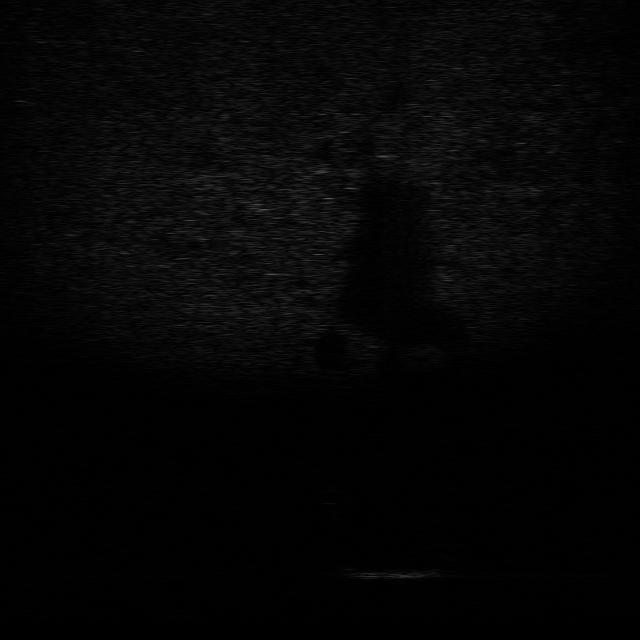ball: (310, 486, 352, 508)
metal bucket: (335, 556, 437, 585)
tyre: (388, 523, 463, 556)
